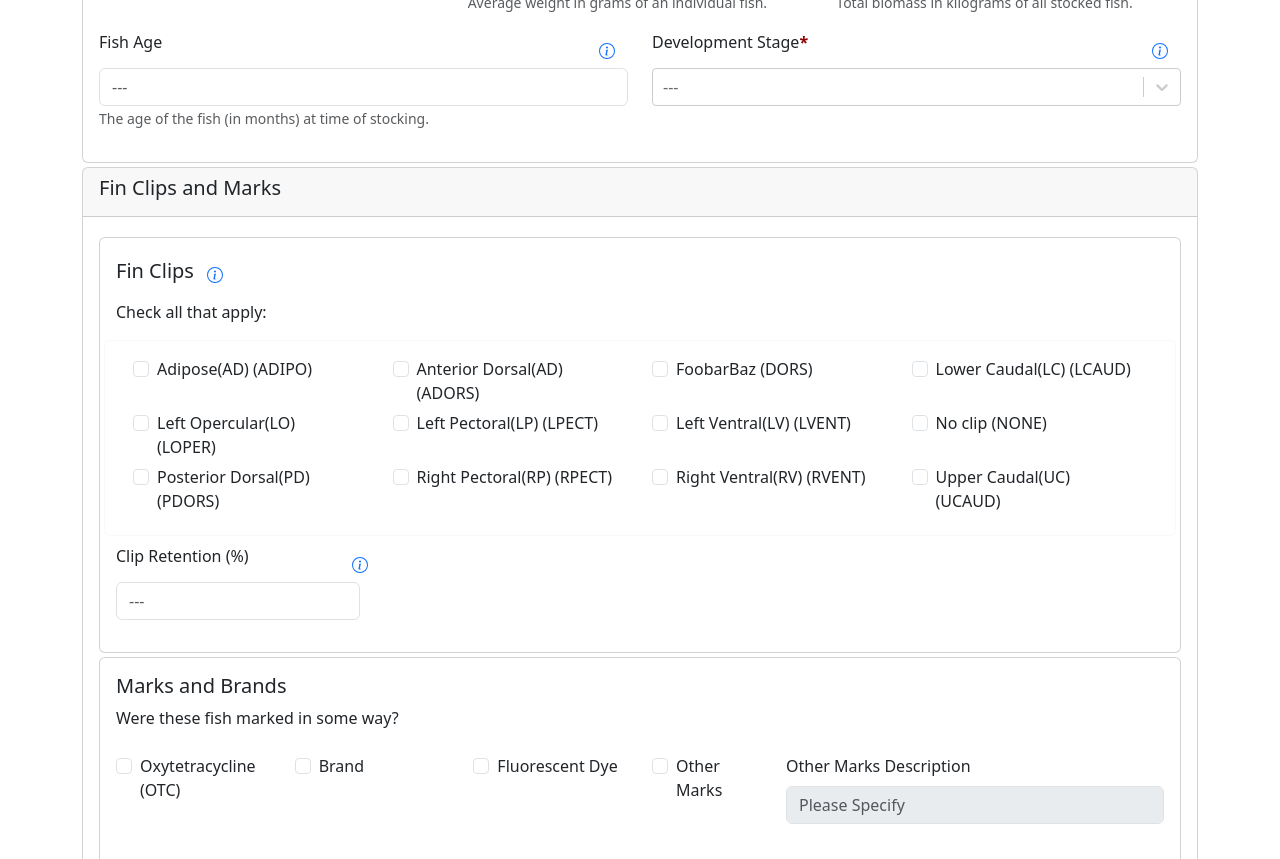
Fin Clip › that fin clip 0 cannot be selected with any other value
This screenshot has width=1280, height=859.
(page scrolled)
Step 1. Click the checkbox labelled "No clip (NONE)" → (920, 423), box [912,415,928,431]
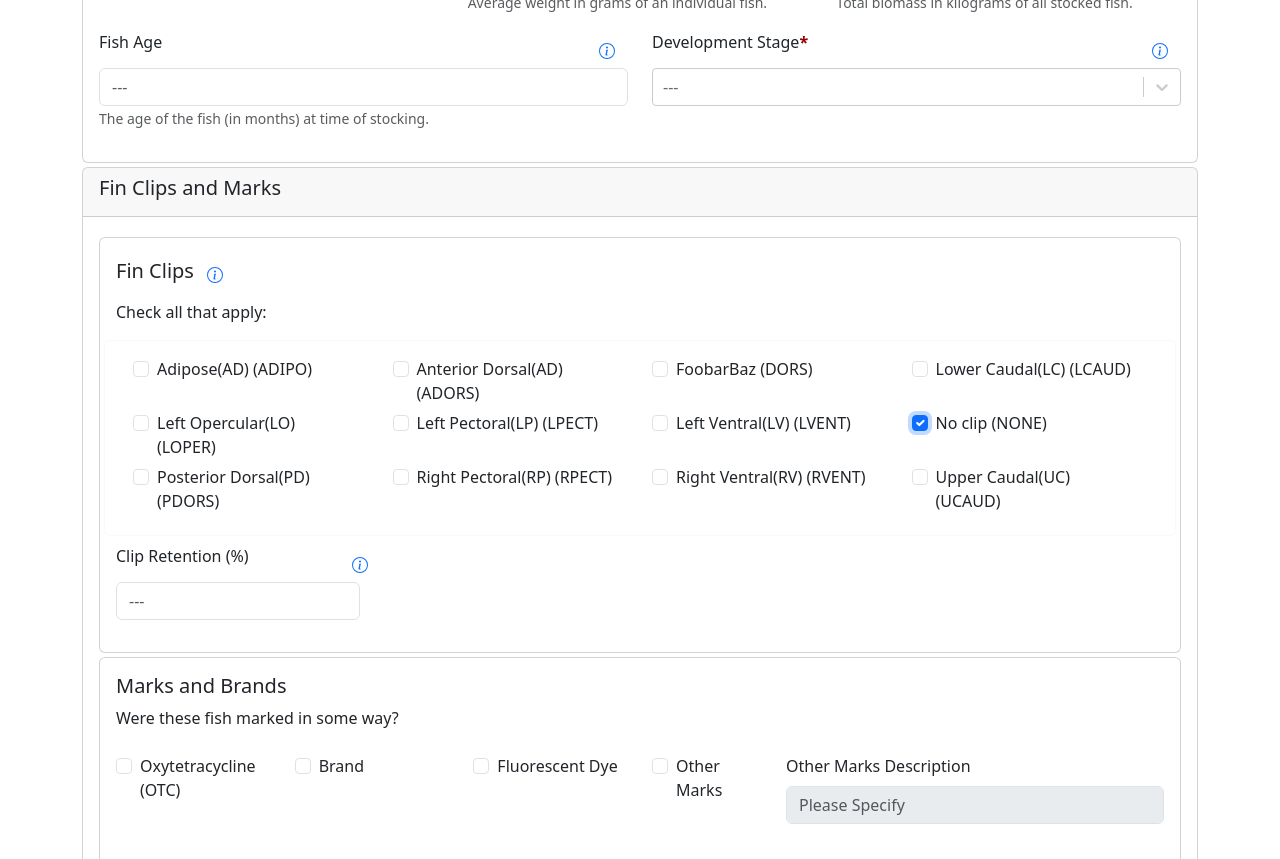
Step 2. Click the checkbox labelled "Adipose(AD) (ADIPO)" → (141, 369), box [133,361,149,377]
(page scrolled)
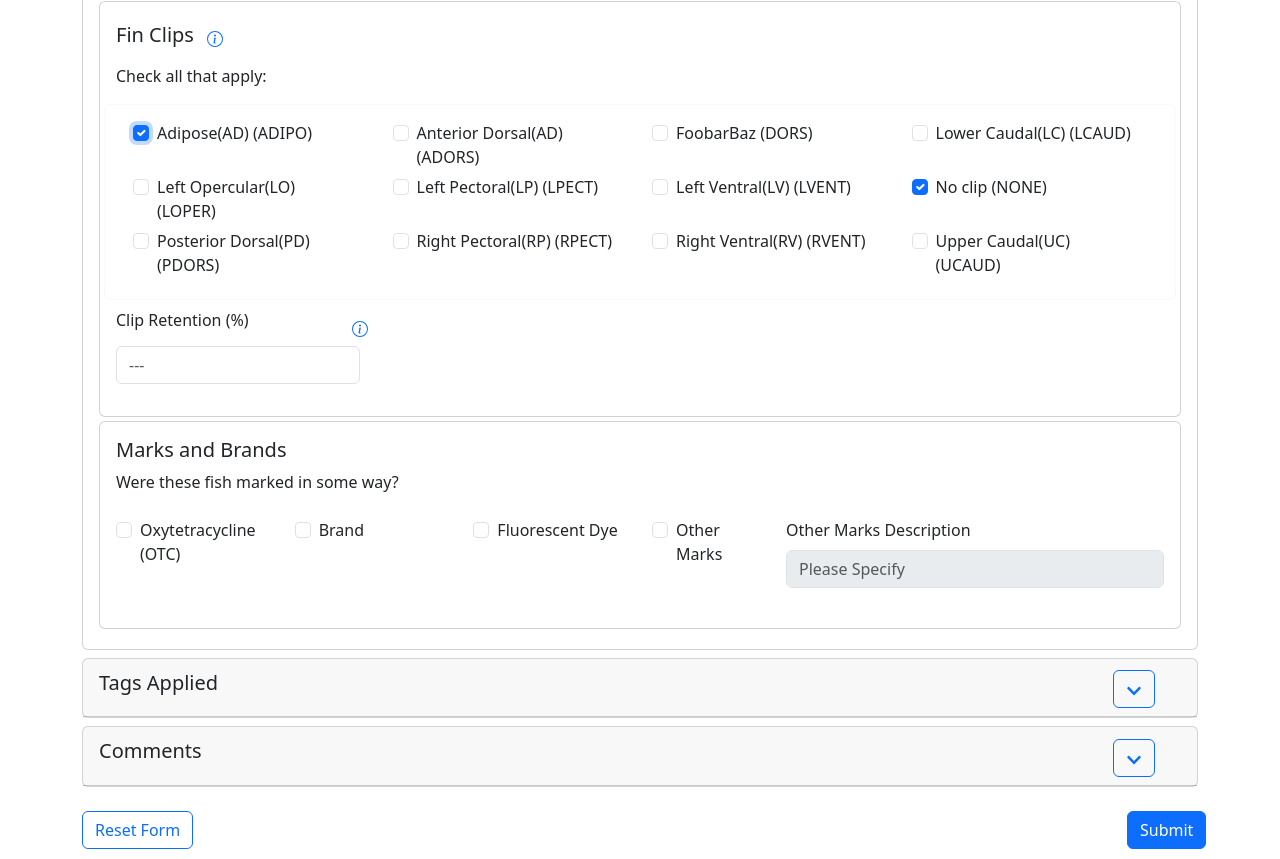
Step 3. Click the button "Submit" → (1167, 830), box [1127,811,1206,849]
(page scrolled)
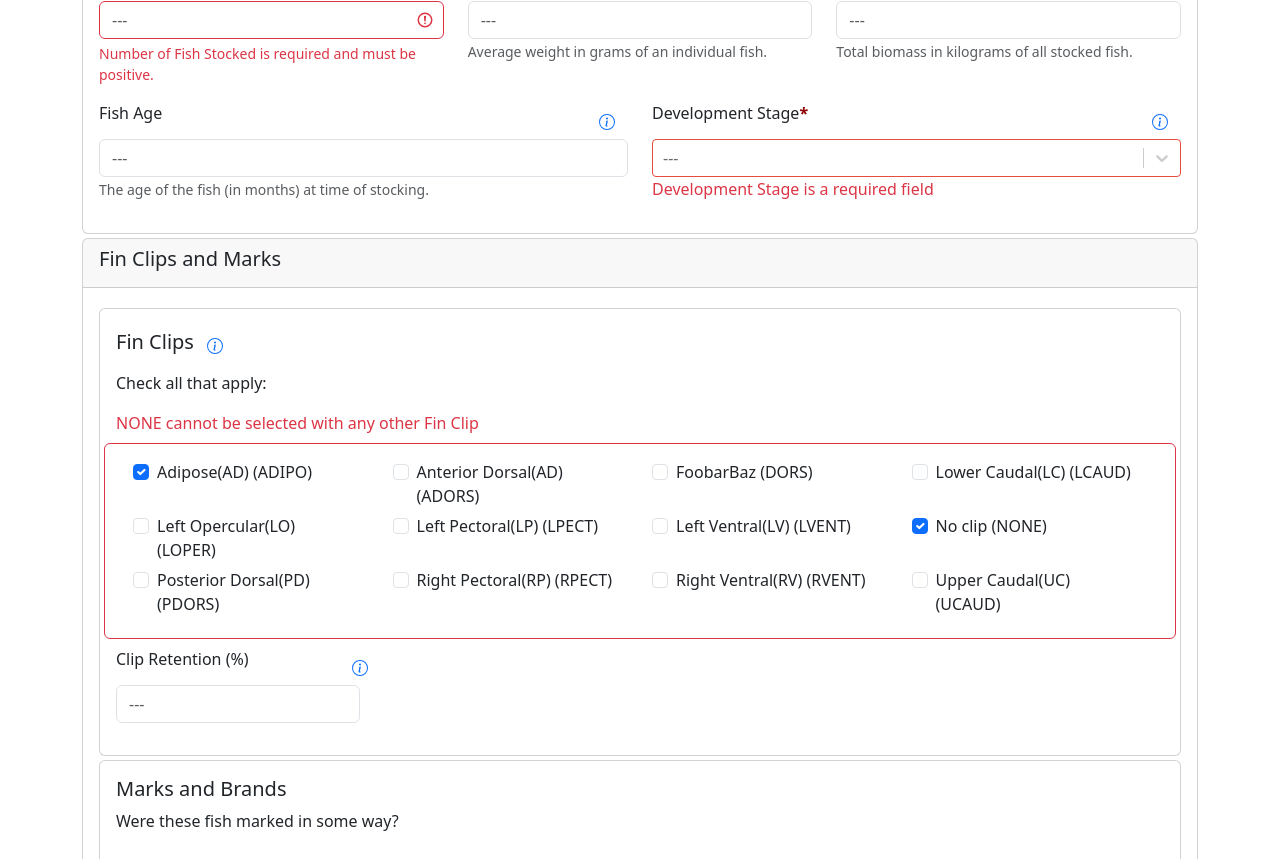
Now the text "NONE cannot be selected with any other Fin Clip" is shown, box [116,412,479,434]
